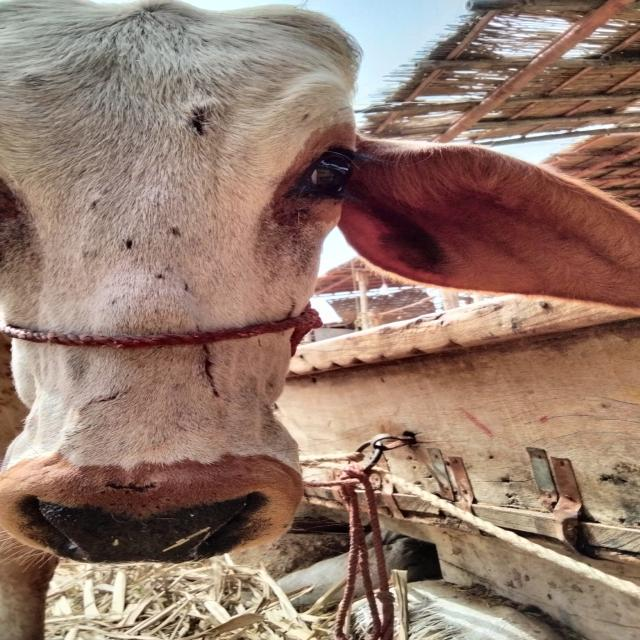muzzles: (7, 484, 286, 569)
